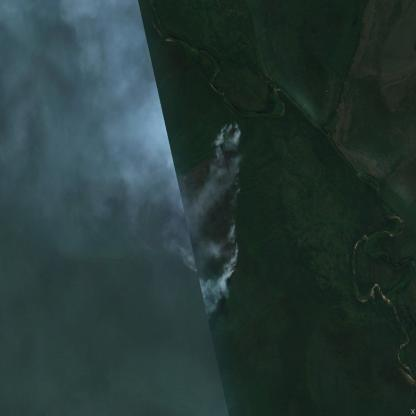fire: (179, 119, 254, 304)
